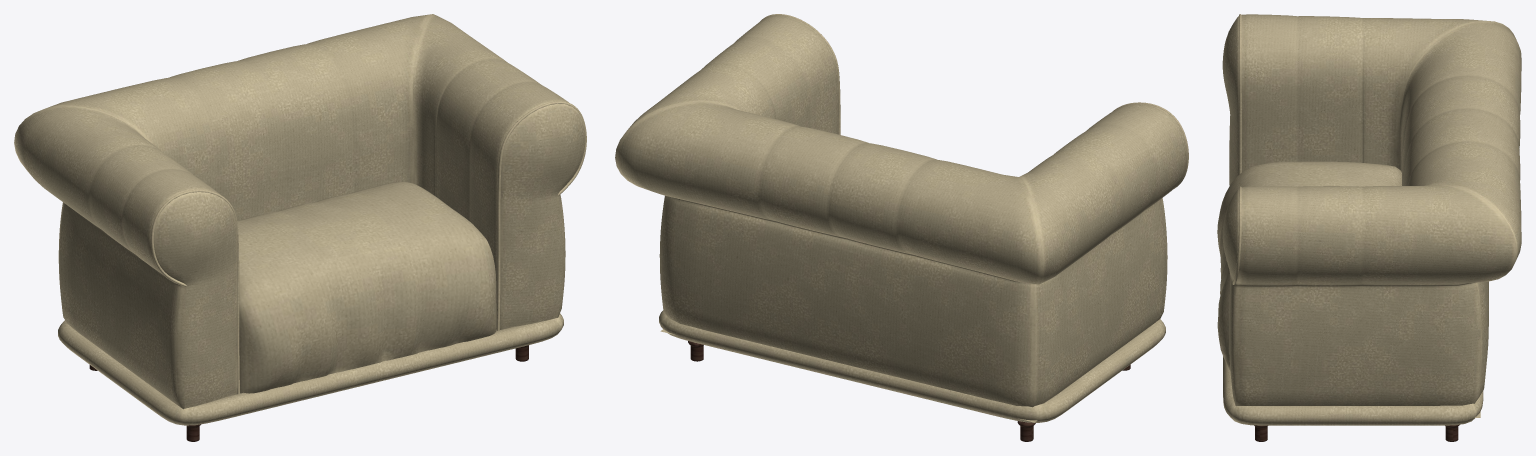
File: Armchair.glb
The picture shows the model from 3 angles, left to right: view 1: azimuth 30°, elevation 25°; view 2: azimuth 150°, elevation 25°; view 3: azimuth 270°, elevation 25°; orthographic projection. The views are drawn at different scales.
Parts seen in each view (by area): view 1: Wide cloth arm chair.008, Wide cloth arm chair, Wide cloth arm chair.005, Wide cloth arm chair.007, Wide cloth arm chair.006; view 2: Wide cloth arm chair.008, Wide cloth arm chair.005; view 3: Wide cloth arm chair.008, Wide cloth arm chair, Wide cloth arm chair.005, Wide cloth arm chair.006, Wide cloth arm chair.007.
Part boxes in pixels (x1,y1,x2,y2): Wide cloth arm chair.008: (14, 14, 585, 409); Wide cloth arm chair: (237, 182, 496, 393); Wide cloth arm chair.005: (58, 313, 563, 425); Wide cloth arm chair.007: (496, 101, 586, 330); Wide cloth arm chair.006: (151, 189, 239, 393); Wide cloth arm chair.008: (615, 15, 1187, 407); Wide cloth arm chair.005: (659, 310, 1165, 422); Wide cloth arm chair.008: (1222, 14, 1521, 405); Wide cloth arm chair: (1217, 161, 1401, 370); Wide cloth arm chair.005: (1223, 356, 1483, 425); Wide cloth arm chair.006: (1239, 14, 1241, 174); Wide cloth arm chair.007: (1232, 186, 1241, 284).
Bounding box in the file's own units: 1.48 × 0.8412 × 0.9092.
Materials: 1 (1 with a texture image).
